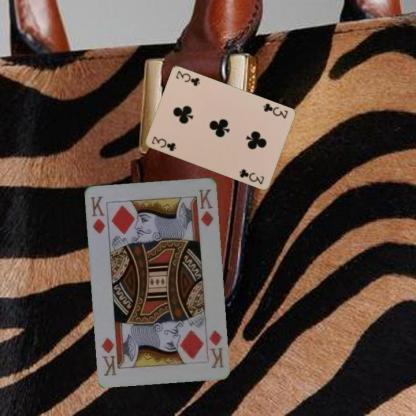3c: (260, 101, 289, 120), (149, 134, 177, 152)
Kd: (88, 193, 106, 235), (206, 327, 224, 369)
